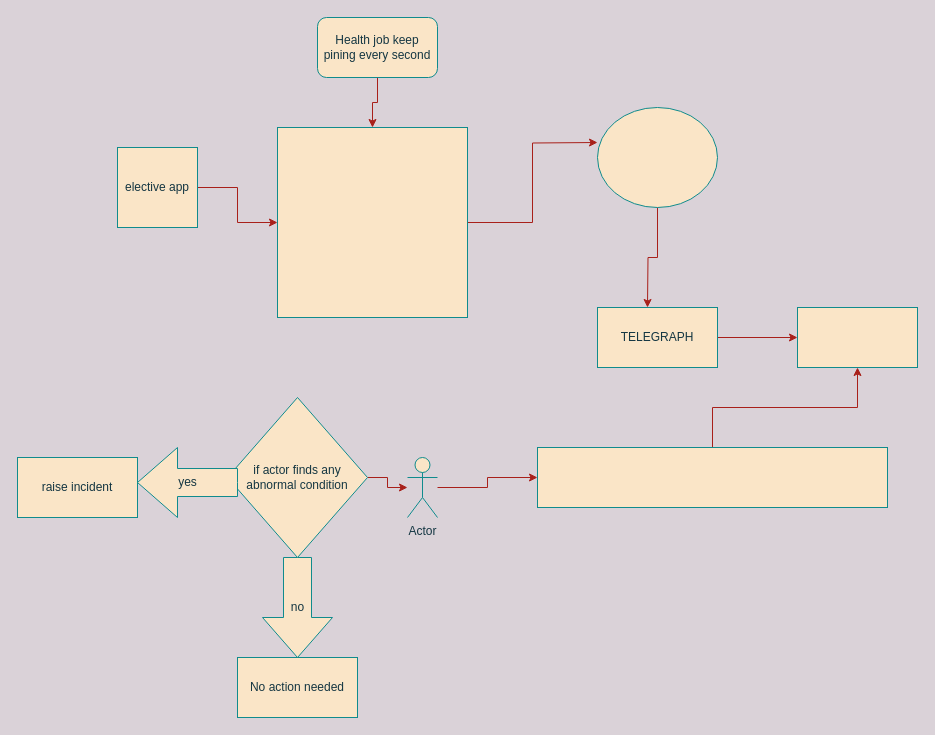
Image size: 935x735. Some labels were removed from this diagram. Each missing label, with the centre of its shape:
"Godzilla topic" belongs at point (657, 157).
"Grafana bord for elective" belongs at point (712, 477).
"health data ping service" belongs at point (372, 222).
"Inflex db" belongs at point (857, 337).
